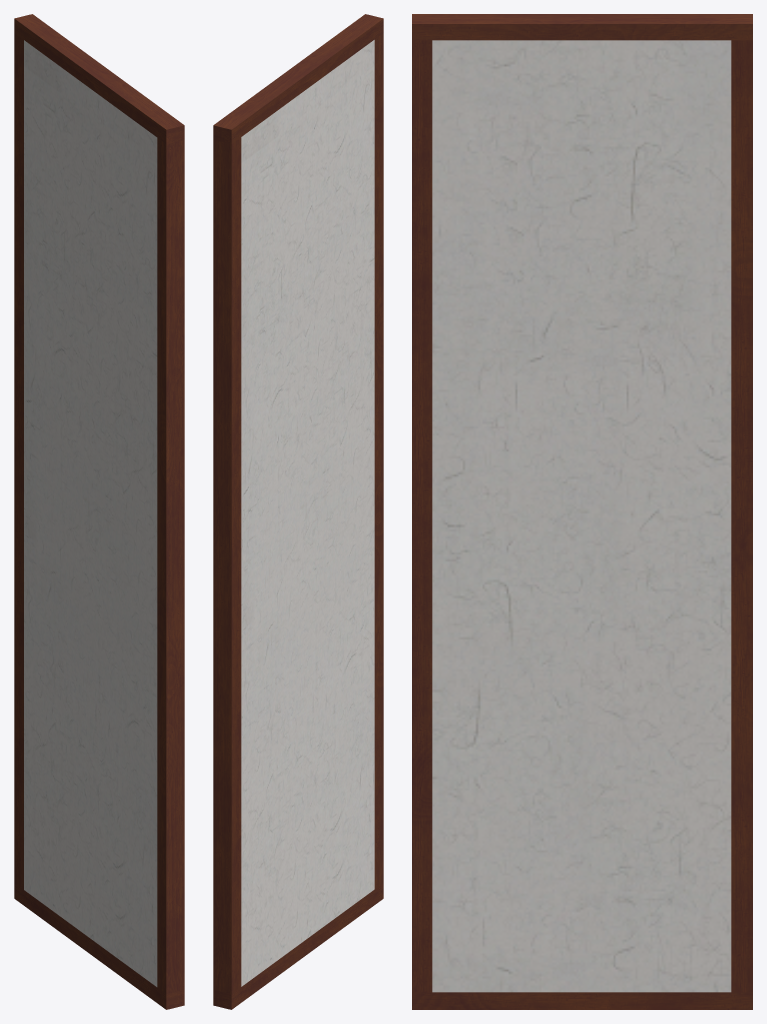
File: SM_WallPaper01K.fbx
3 renders of one model, left to right at view 1: azimuth 30°, elevation 25°; view 2: azimuth 150°, elevation 25°; view 3: azimuth 270°, elevation 25°, orthographic. The views are drawn at different scales.
Visible parts, largest first — view 1: SM_WallPaper01K; view 2: SM_WallPaper01K; view 3: SM_WallPaper01K.
Boxes of the visible parts, bbox=[...] form: SM_WallPaper01K: bbox=[14, 14, 184, 1009]; SM_WallPaper01K: bbox=[213, 14, 383, 1009]; SM_WallPaper01K: bbox=[412, 14, 752, 1009].
Size of the model in its own units: 3.53 by 50.87 by 162.
